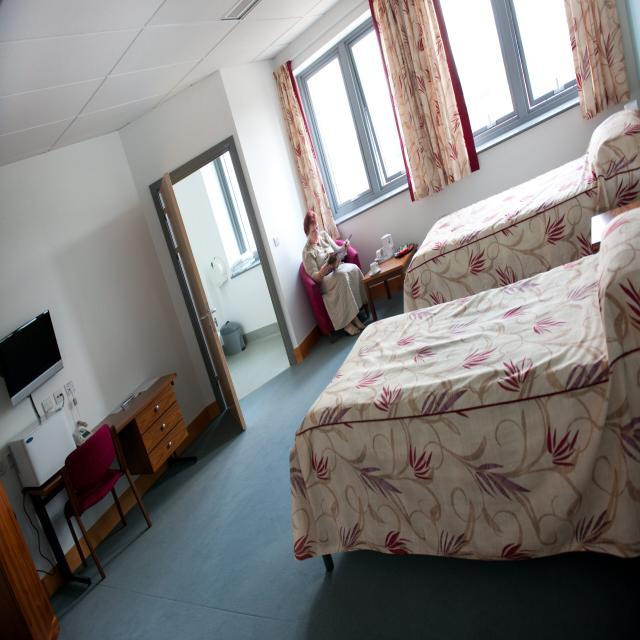Monitor: (0, 311, 71, 404)
bed: (288, 208, 640, 572), (403, 101, 639, 313)
chair: (41, 423, 154, 588)
